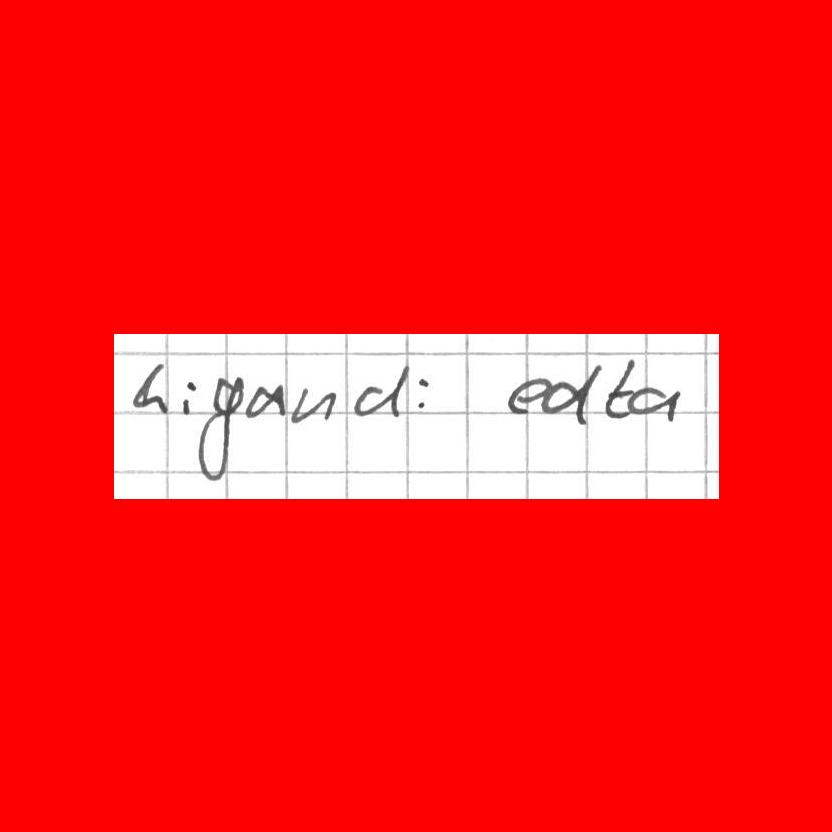Char: (197, 373, 245, 485), (540, 360, 601, 426), (352, 361, 410, 421), (129, 360, 172, 416), (625, 384, 686, 422), (605, 355, 637, 420), (505, 373, 552, 417), (289, 383, 337, 424), (243, 381, 287, 422), (177, 378, 198, 417), (414, 374, 430, 413)
